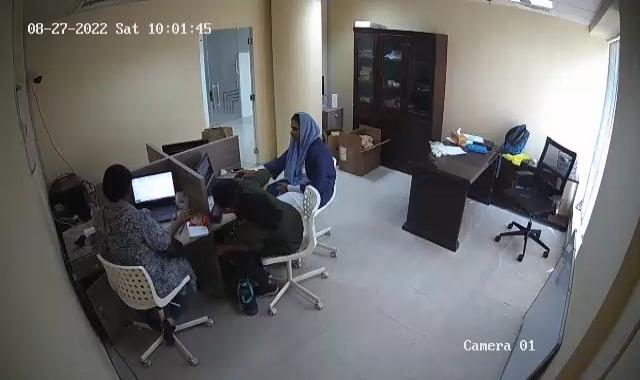no_hairnet: (280, 105, 313, 145), (101, 162, 135, 200), (210, 179, 246, 211)
